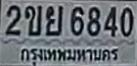0: (119, 6, 133, 36)
2: (5, 4, 20, 34)
4: (104, 6, 116, 36)
6: (70, 6, 83, 35)
8: (86, 6, 99, 35)
A02: (24, 4, 41, 35)
A34: (45, 5, 62, 35)
BKK: (20, 45, 120, 66)
